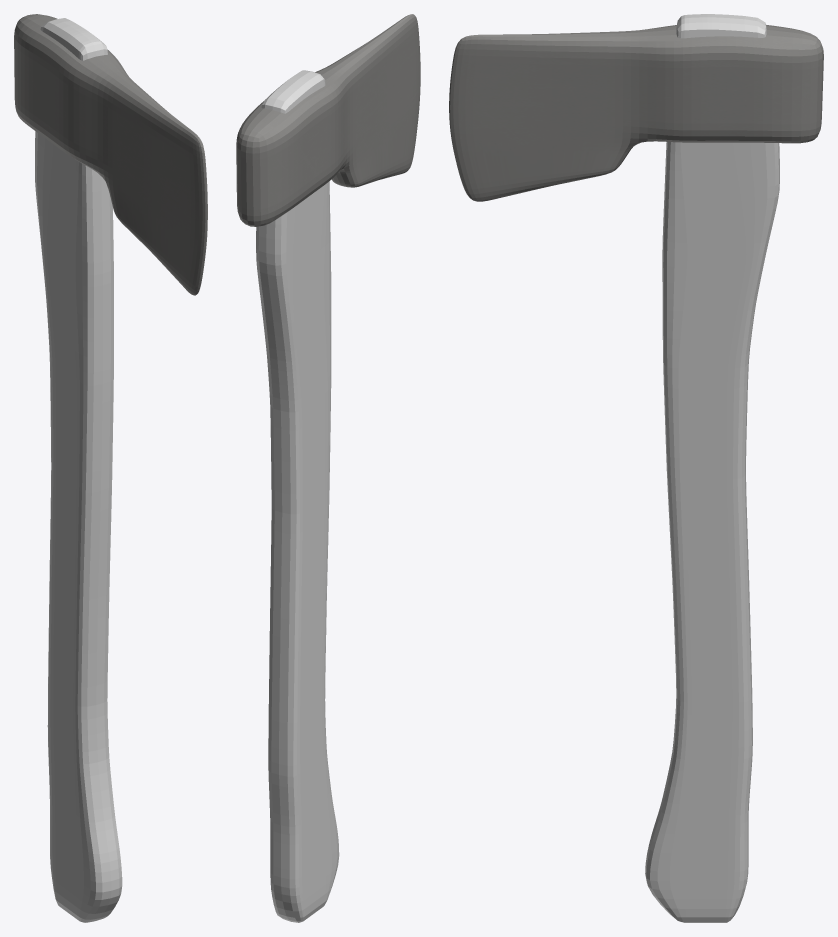
The model's file is Balta.fbx.
3 views of the same model, side by side, from view 1: azimuth 30°, elevation 25°; view 2: azimuth 150°, elevation 25°; view 3: azimuth 270°, elevation 25° (orthographic). The views are drawn at different scales.
Visible parts, largest first — view 1: Cube.001, Cube; view 2: Cube.001, Cube; view 3: Cube.001, Cube.
Boxes of the visible parts, box(x1,y1,x2,y2) form: Cube.001: box(35, 18, 122, 922); Cube: box(14, 14, 207, 295); Cube.001: box(256, 70, 339, 922); Cube: box(236, 14, 420, 226); Cube.001: box(645, 14, 779, 922); Cube: box(449, 25, 823, 201).
Bounding box in the file's own units: 29.25 × 481 × 181.
